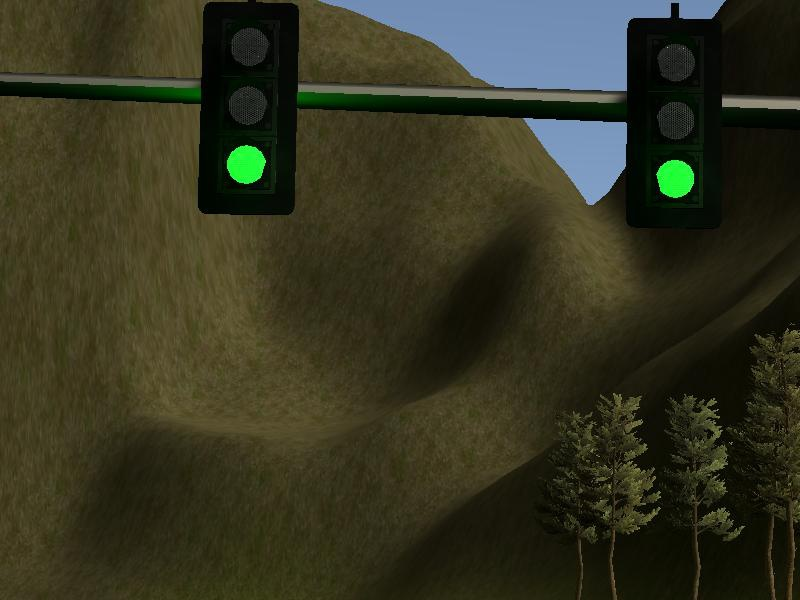Green: (196, 1, 300, 219), (622, 15, 725, 226)
